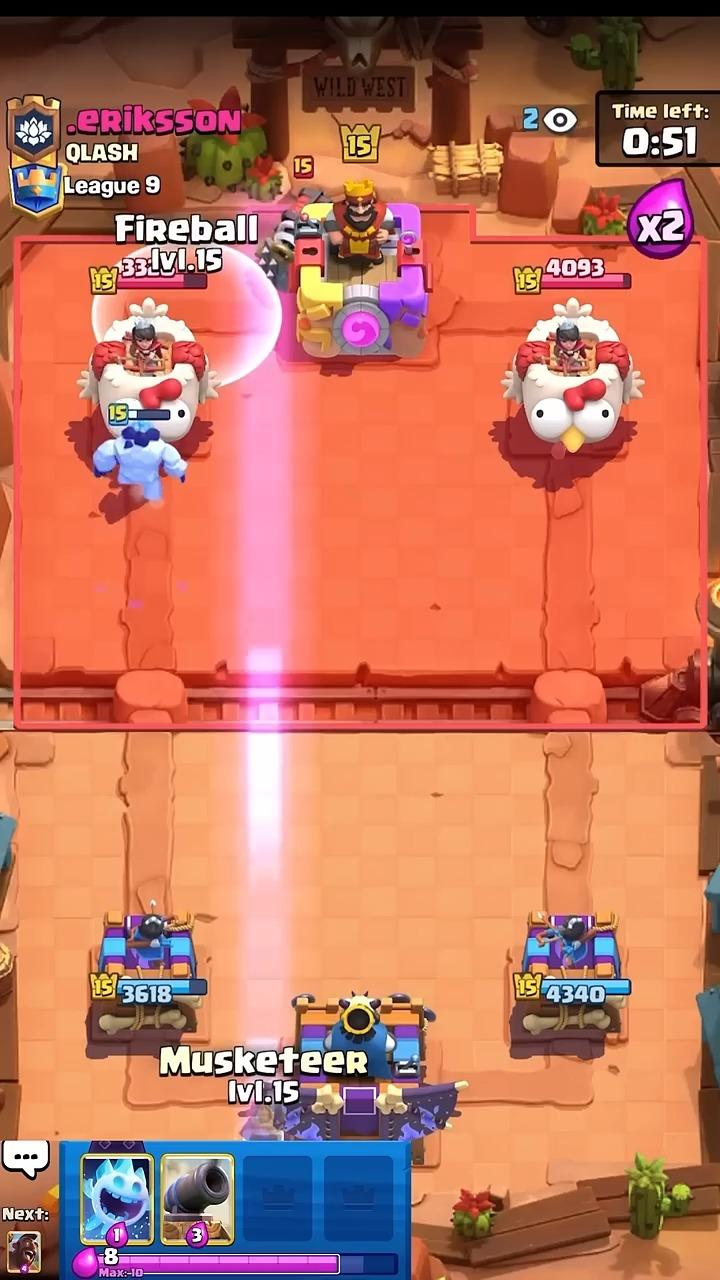ice golem: (93, 420, 186, 500)
sparky: (256, 187, 324, 291)
